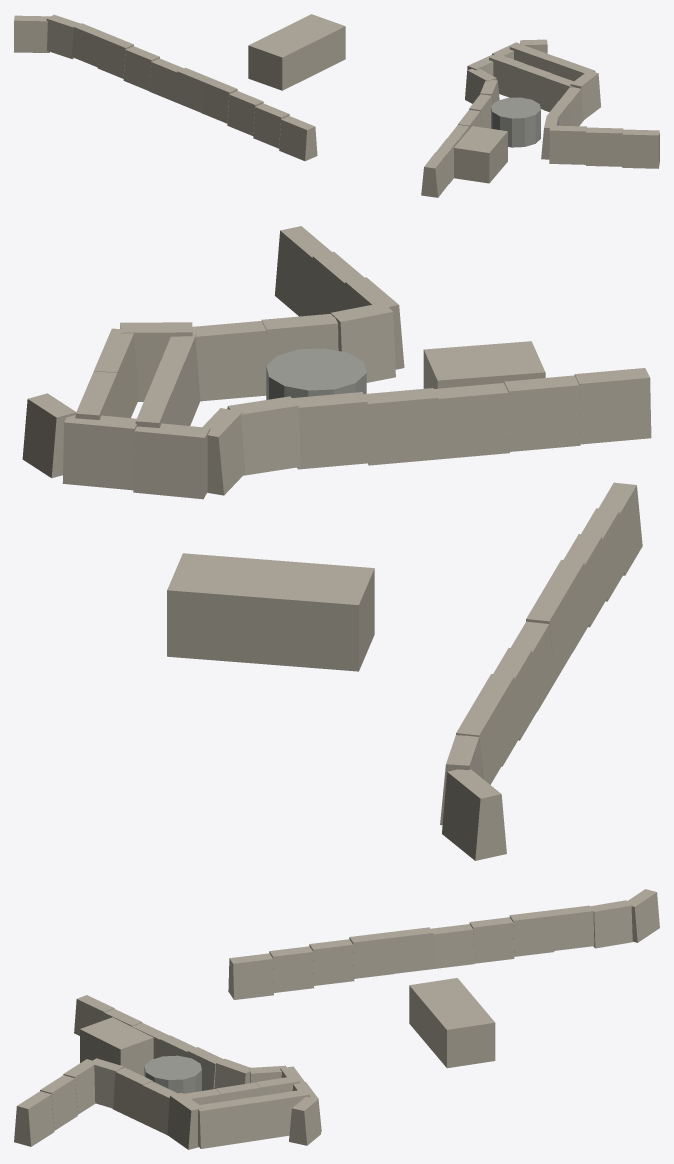
Rendered from kalkara_63_21_far.glb.
3 renders of one model, top to bottom at view 1: azimuth 30°, elevation 25°; view 2: azimuth 150°, elevation 25°; view 3: azimuth 270°, elevation 25°, orthographic. The views are drawn at different scales.
Parts seen in each view (by area): view 1: geometry_0; view 2: geometry_0; view 3: geometry_0.
Boxes of the visible parts, x1,y1,x2,y2 form: geometry_0: (14,14,659,197); geometry_0: (22,226,651,860); geometry_0: (14,889,659,1149).
Bounding box in the file's own units: 152 × 15.97 × 188.
